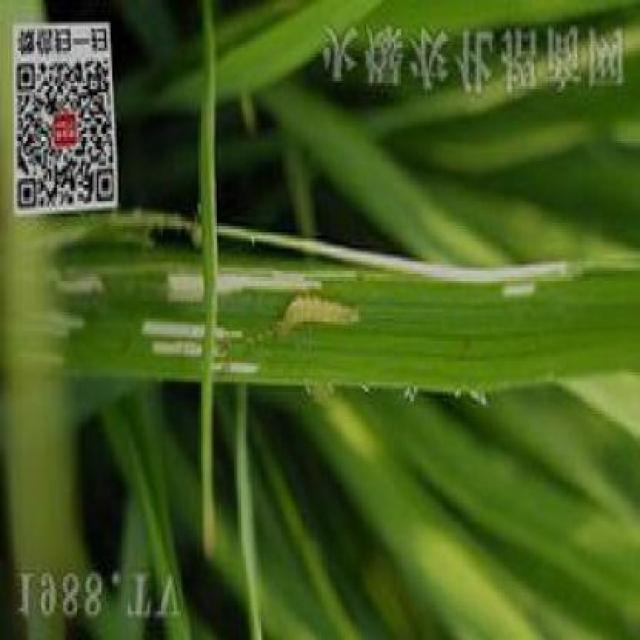leaf-folder: (251, 278, 418, 352)
